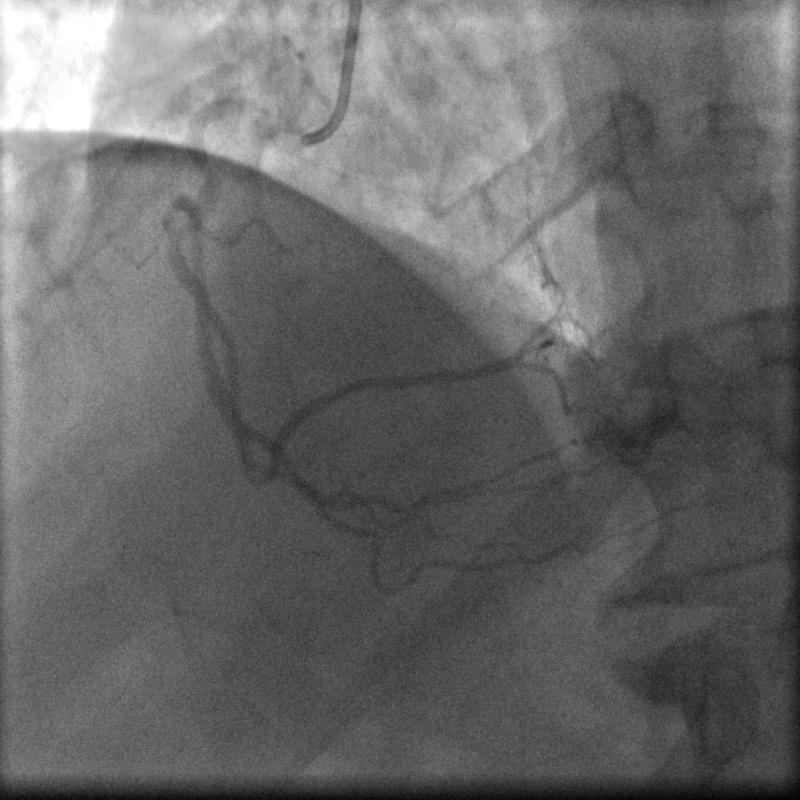Stenosis: (195, 160, 220, 182)
